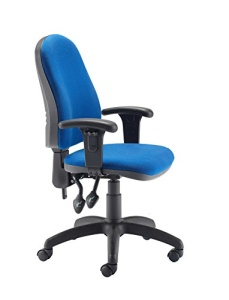chair: (34, 34, 185, 278)
